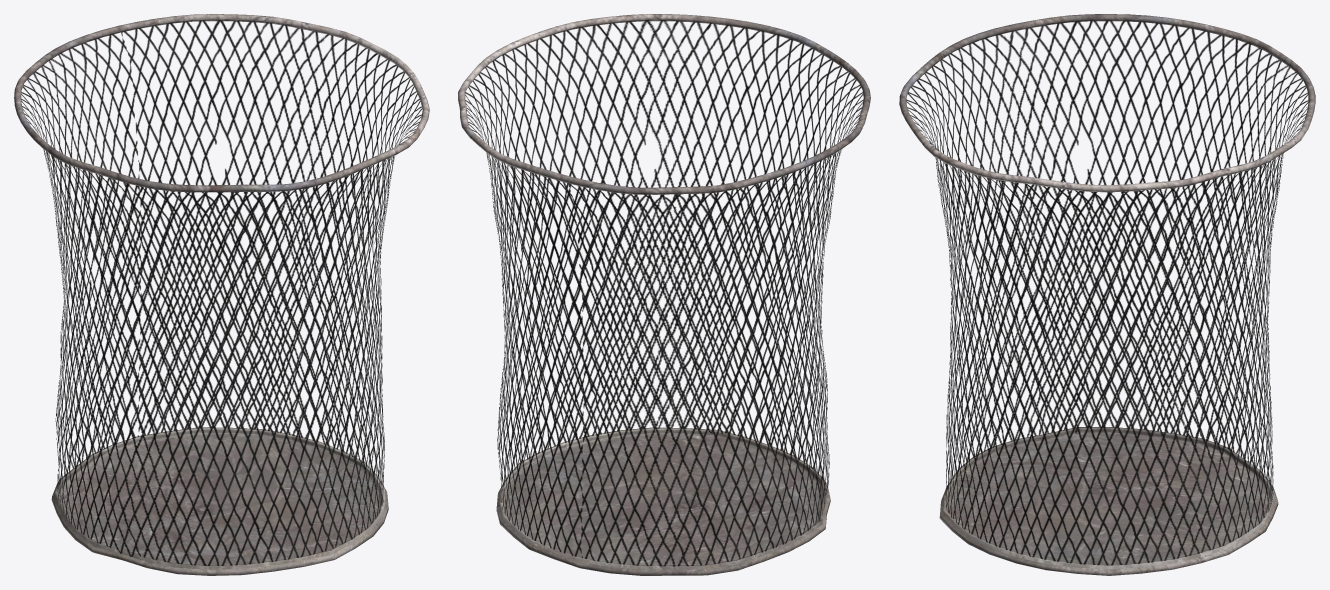
File: sc_cc_bin.glb
3 views of the same model, side by side, from view 1: azimuth 30°, elevation 25°; view 2: azimuth 150°, elevation 25°; view 3: azimuth 270°, elevation 25° (orthographic).
Parts seen in each view (by area): view 1: dustBin__Cylinder.057, dustBin__Cylinder.056, dustBin__Cylinder; view 2: dustBin__Cylinder.057, dustBin__Cylinder.056, dustBin__Cylinder; view 3: dustBin__Cylinder.057, dustBin__Cylinder.056, dustBin__Cylinder.
Part boxes in pixels (left/top/right/bottom): dustBin__Cylinder.057: left=21, top=20, right=422, bottom=565; dustBin__Cylinder.056: left=51, top=427, right=388, bottom=575; dustBin__Cylinder: left=14, top=14, right=429, bottom=192; dustBin__Cylinder.057: left=465, top=20, right=863, bottom=566; dustBin__Cylinder.056: left=496, top=427, right=830, bottom=575; dustBin__Cylinder: left=458, top=14, right=870, bottom=194; dustBin__Cylinder.057: left=906, top=20, right=1308, bottom=565; dustBin__Cylinder.056: left=939, top=427, right=1278, bottom=575; dustBin__Cylinder: left=899, top=14, right=1315, bottom=192.
Size of the model in its own units: 0.398 by 0.4326 by 0.402.
3 materials, 3 textured.
